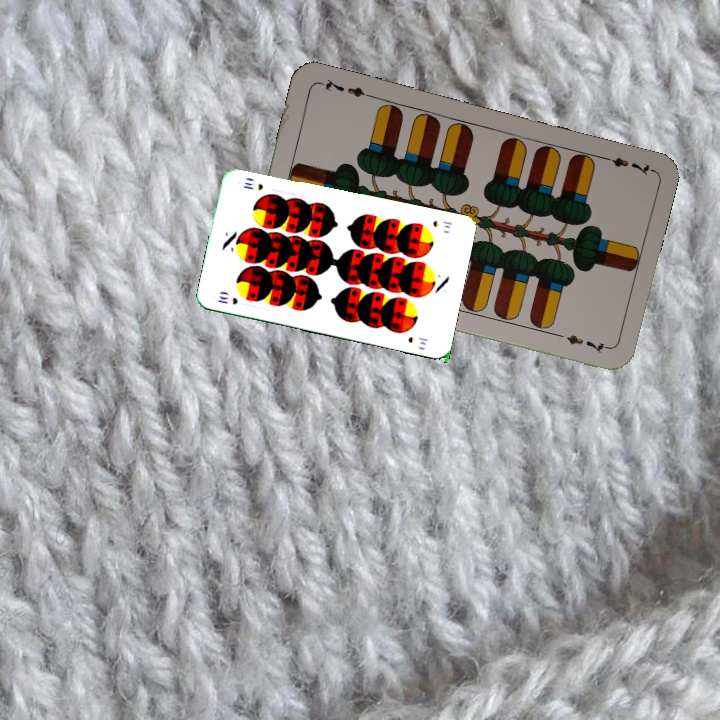E7: (596, 151, 654, 178)
S10: (214, 292, 240, 307), (429, 216, 454, 231)
